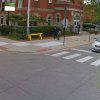Crosswalk: (37, 40, 100, 82)
